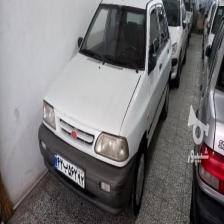plate: (54, 150, 86, 190)
